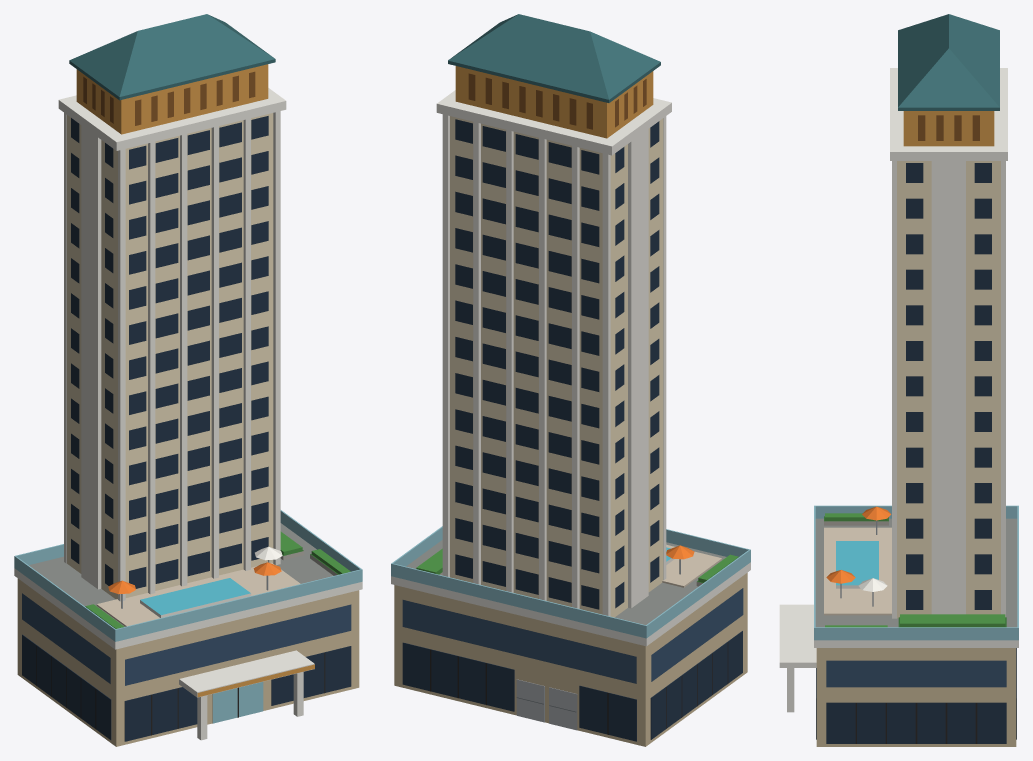
The model's file is gedung_02.glb.
3 views of the same model, side by side, from view 1: azimuth 30°, elevation 25°; view 2: azimuth 150°, elevation 25°; view 3: azimuth 270°, elevation 25° (orthographic). The views are drawn at different scales.
Visible parts, largest first — view 1: gedung_02; view 2: gedung_02; view 3: gedung_02.
Boxes of the visible parts, box(x1,y1,x2,y2) form: gedung_02: box(14, 14, 362, 746); gedung_02: box(391, 14, 750, 746); gedung_02: box(779, 14, 1018, 746).
Bounding box in the file's own units: 23.6 × 59 × 19.55.
